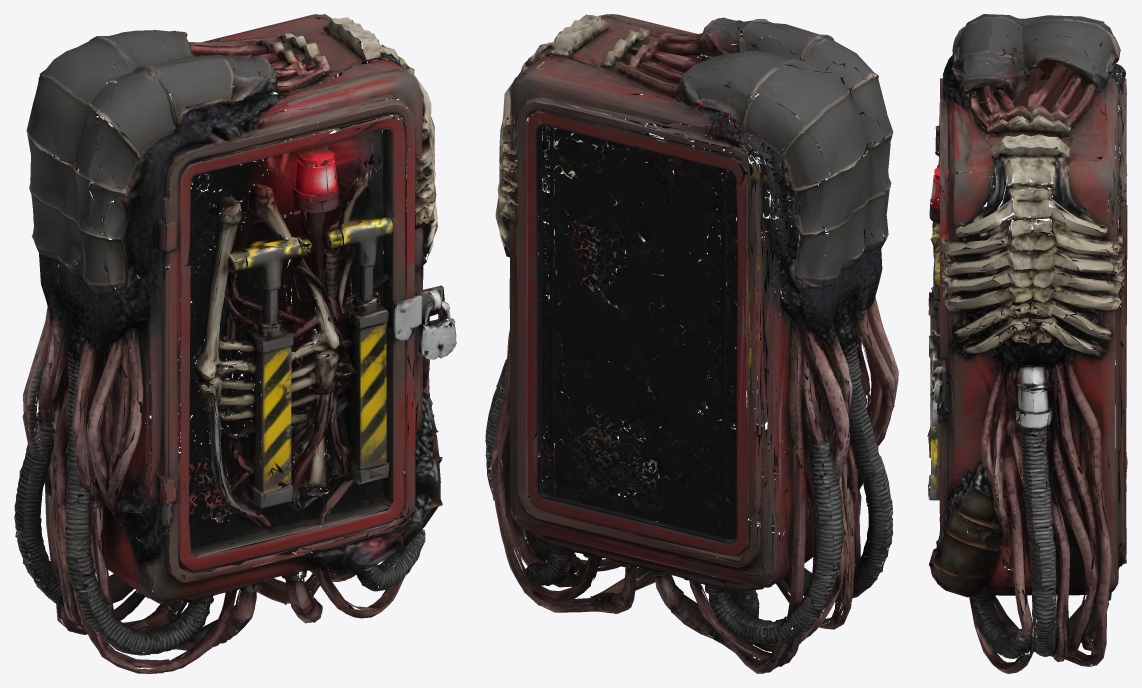
File: evac_manual_abort_detonator.glb
3 renders of one model, left to right at view 1: azimuth 30°, elevation 25°; view 2: azimuth 150°, elevation 25°; view 3: azimuth 270°, elevation 25°, orthographic. The views are drawn at different scales.
Parts seen in each view (by area): view 1: node_0; view 2: node_0; view 3: node_0.
Boxes of the visible parts, x1,y1,x2,y2 form: node_0: (14,14,456,673); node_0: (485,14,898,673); node_0: (927,14,1127,673).
Size of the model in its own units: 0.7279 by 1.08 by 0.352.
1 material, 1 textured.
